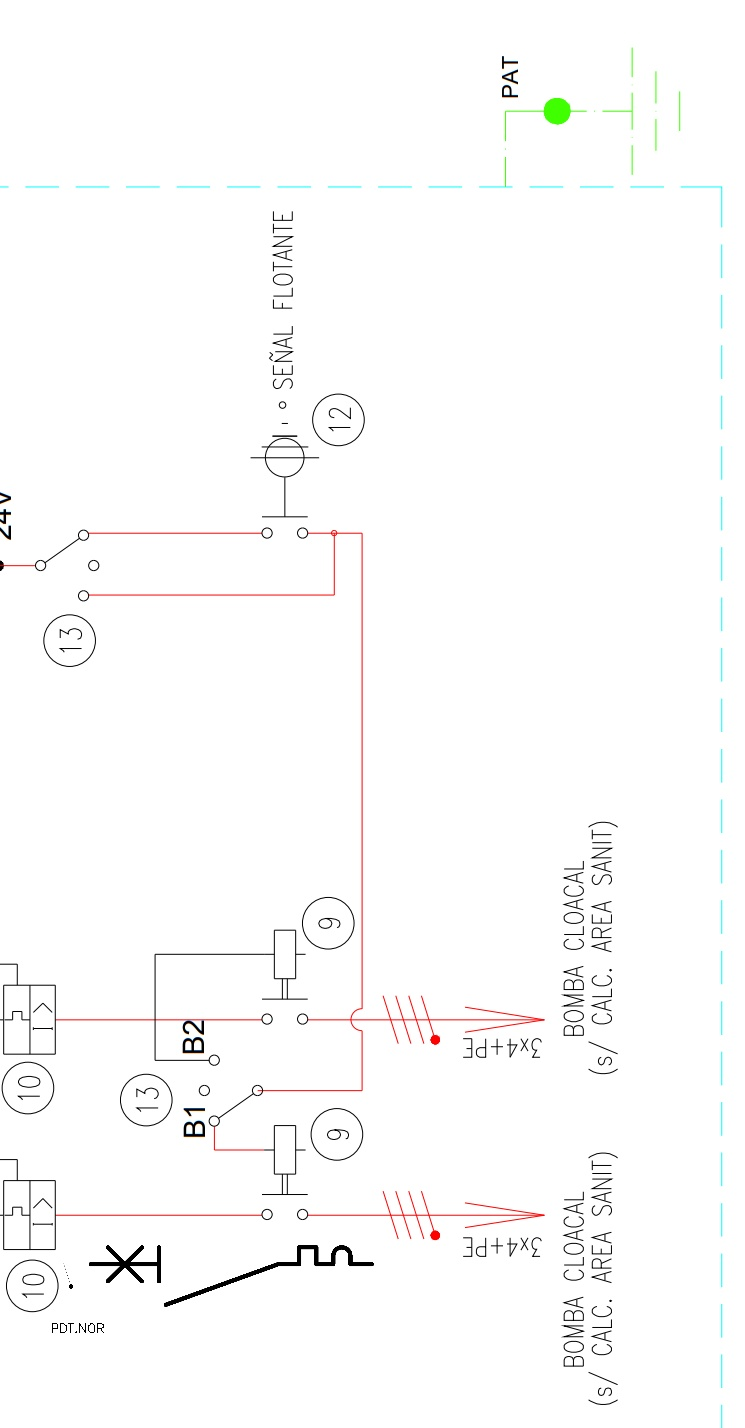interruptor_termomagnetico: (83, 1240, 379, 1312)
